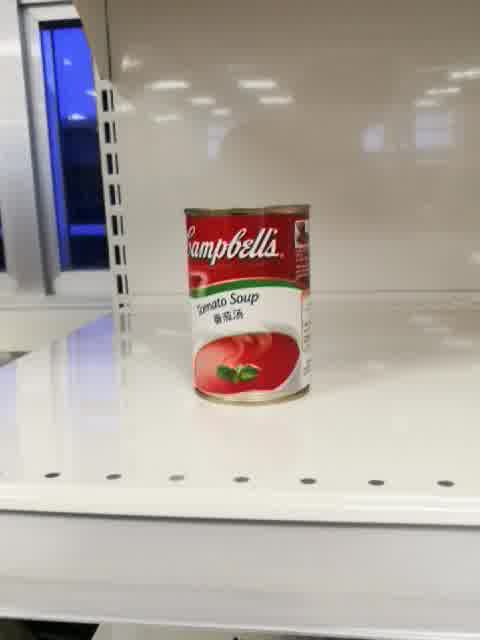tomatosoup: (183, 202, 314, 405)
